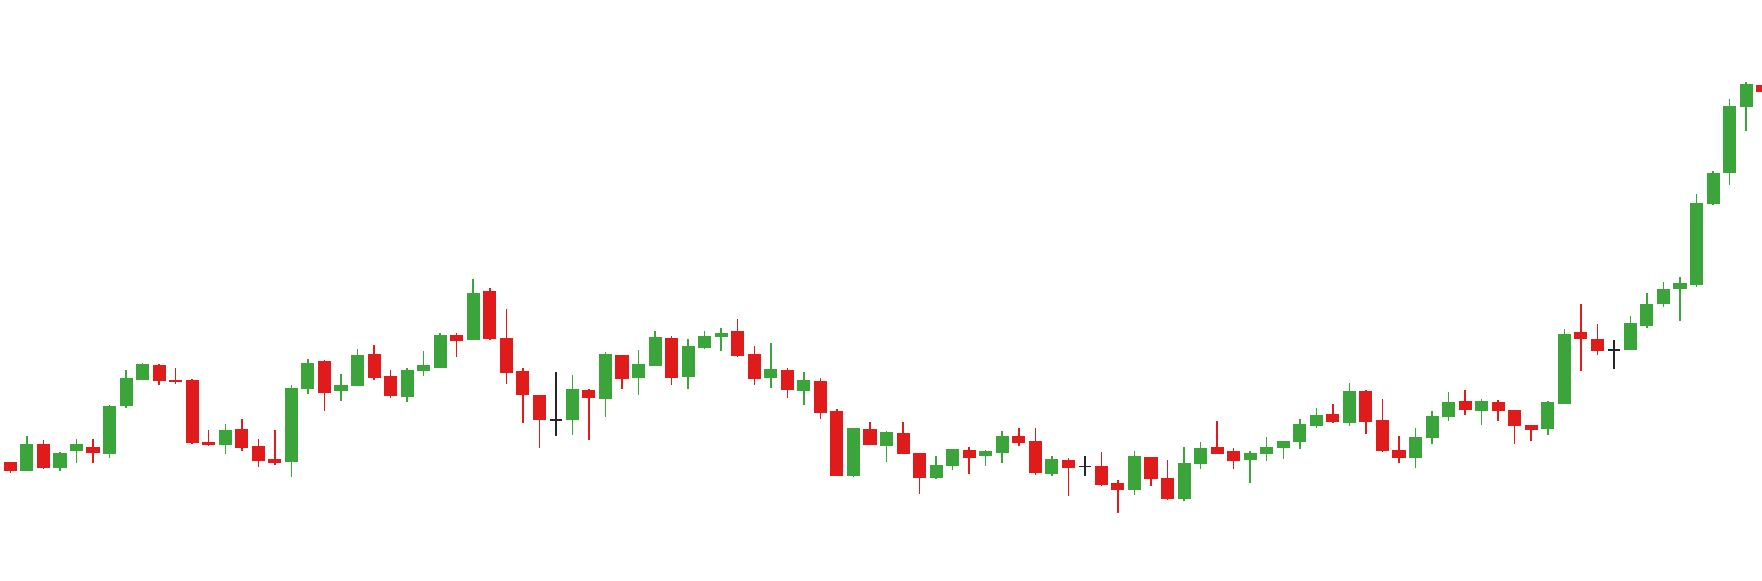sell: (648, 314, 747, 379)
